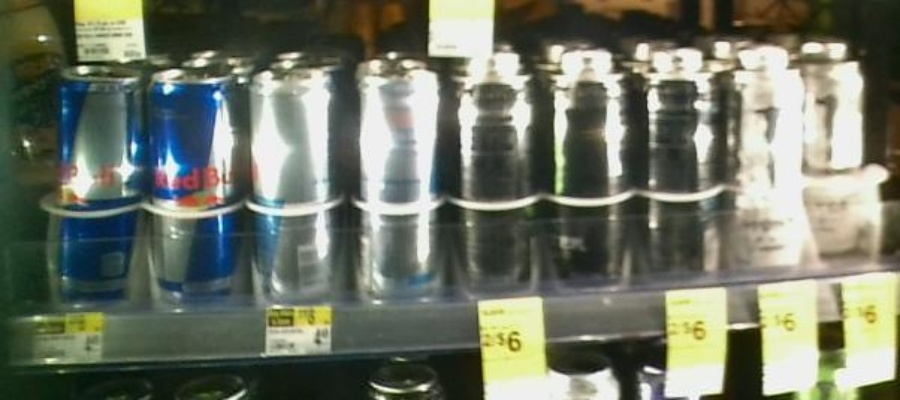bottle: (348, 56, 447, 311), (245, 60, 345, 307), (449, 52, 543, 305), (144, 71, 242, 305), (45, 67, 139, 308), (552, 43, 635, 297), (643, 45, 725, 289), (728, 43, 804, 280), (806, 28, 884, 258)
